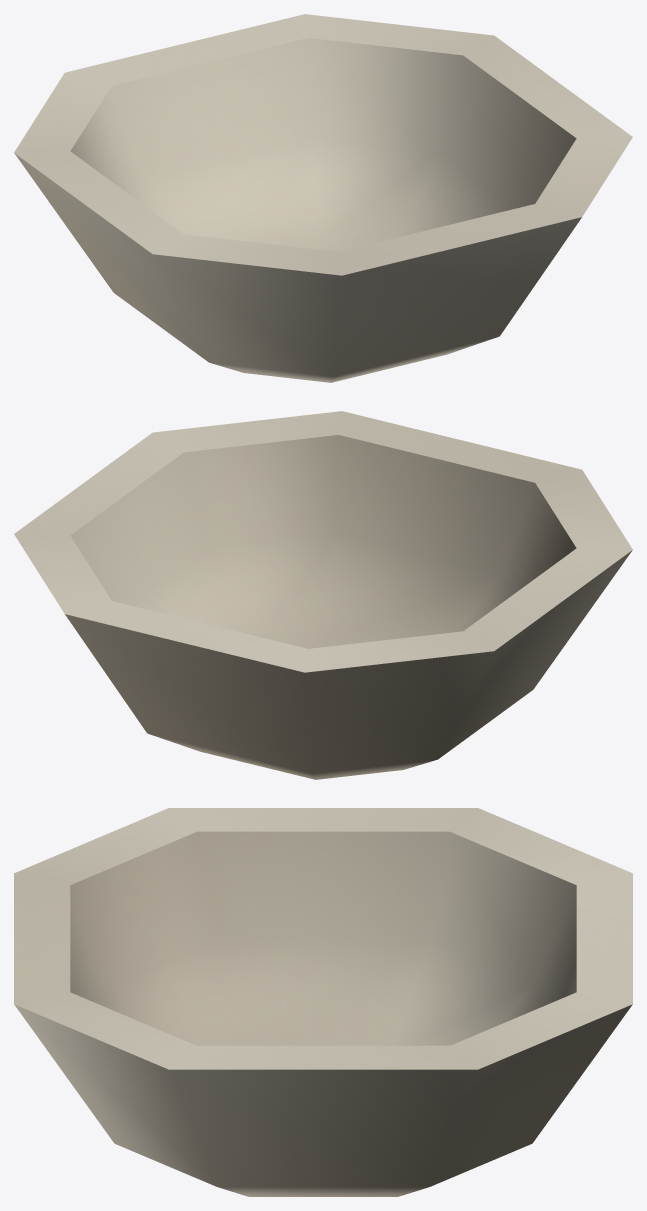
The model's file is bowl_ceramic.fbx.
3 views of the same model, one above another, from view 1: azimuth 30°, elevation 25°; view 2: azimuth 150°, elevation 25°; view 3: azimuth 270°, elevation 25° (orthographic). The views are drawn at different scales.
Parts seen in each view (by area): view 1: bowl_ceramic; view 2: bowl_ceramic; view 3: bowl_ceramic.
Boxes of the visible parts, x1,y1,x2,y2 form: bowl_ceramic: [14, 14, 632, 382]; bowl_ceramic: [14, 411, 632, 779]; bowl_ceramic: [14, 808, 632, 1196].
Size of the model in its own units: 47.46 by 16.62 by 47.46.
